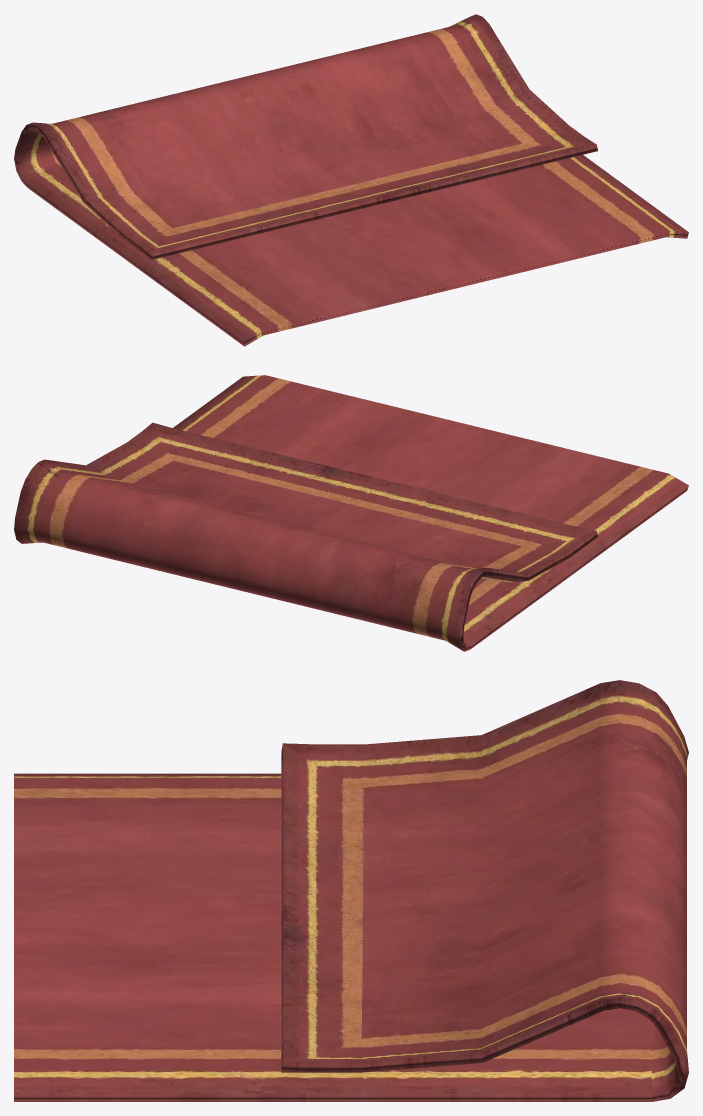
The picture shows the model from 3 angles, top to bottom: view 1: azimuth 30°, elevation 25°; view 2: azimuth 150°, elevation 25°; view 3: azimuth 270°, elevation 25°; orthographic projection. The views are drawn at different scales.
Visible parts, largest first — view 1: SM_DR_Rug_A_End_03_01_LOD0; view 2: SM_DR_Rug_A_End_03_01_LOD0; view 3: SM_DR_Rug_A_End_03_01_LOD0.
Part boxes in pixels (x1=…): SM_DR_Rug_A_End_03_01_LOD0: x1=14, y1=14, x2=688, y2=346; SM_DR_Rug_A_End_03_01_LOD0: x1=14, y1=375, x2=688, y2=651; SM_DR_Rug_A_End_03_01_LOD0: x1=14, y1=680, x2=688, y2=1101.
Size of the model in its own units: 2.24 by 0.3403 by 1.99.
1 material, 1 textured.
